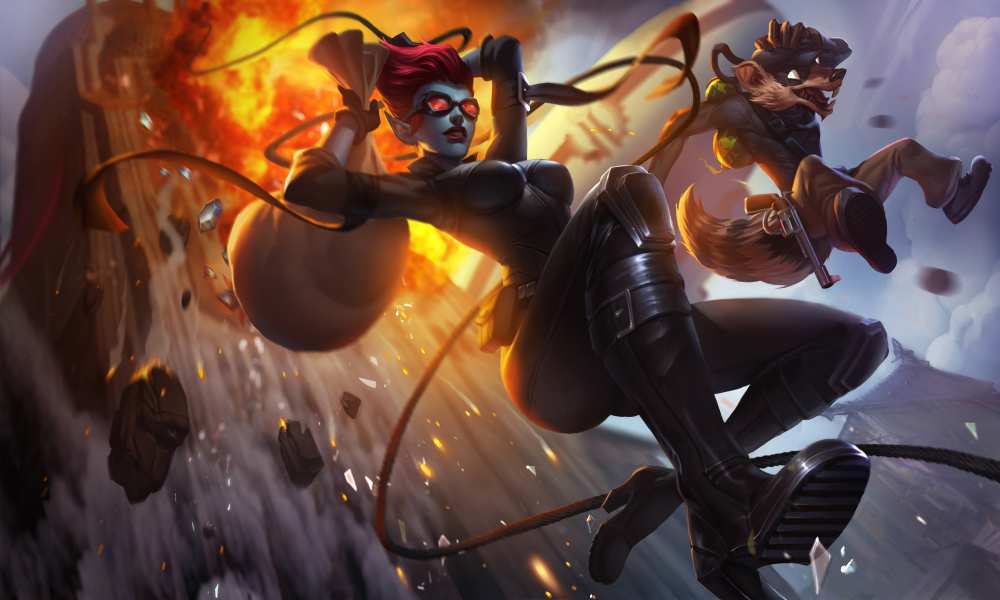face: (343, 19, 524, 191)
